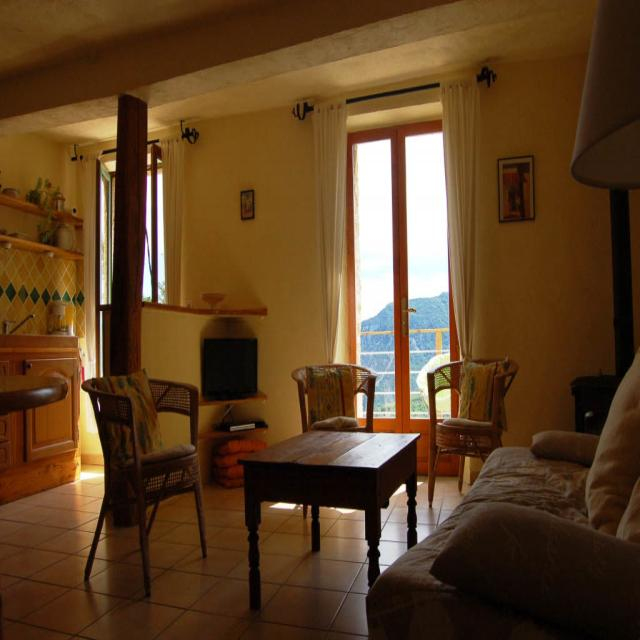chair: (81, 370, 208, 600), (422, 357, 520, 509), (292, 362, 376, 433)
desk: (238, 427, 422, 610)
tv: (201, 336, 258, 402)
